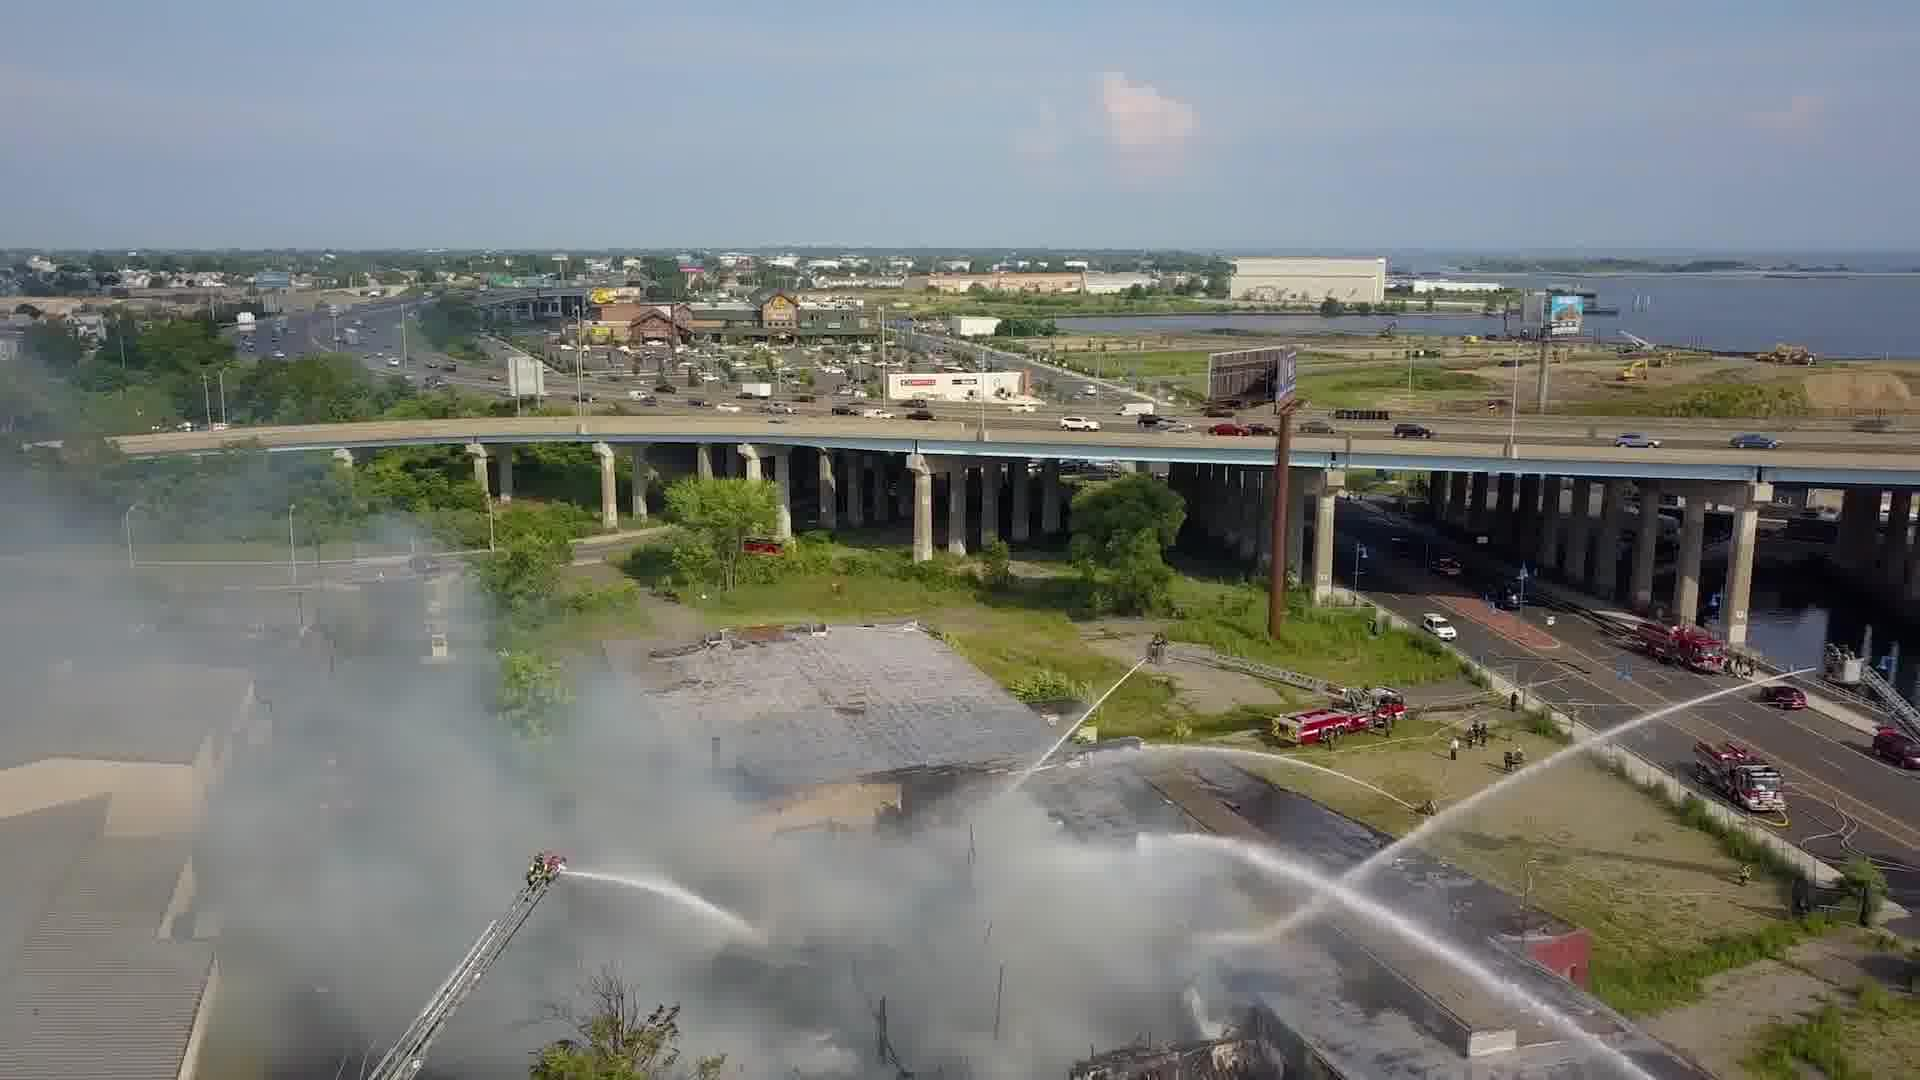smoke: (49, 600, 1200, 1080)
